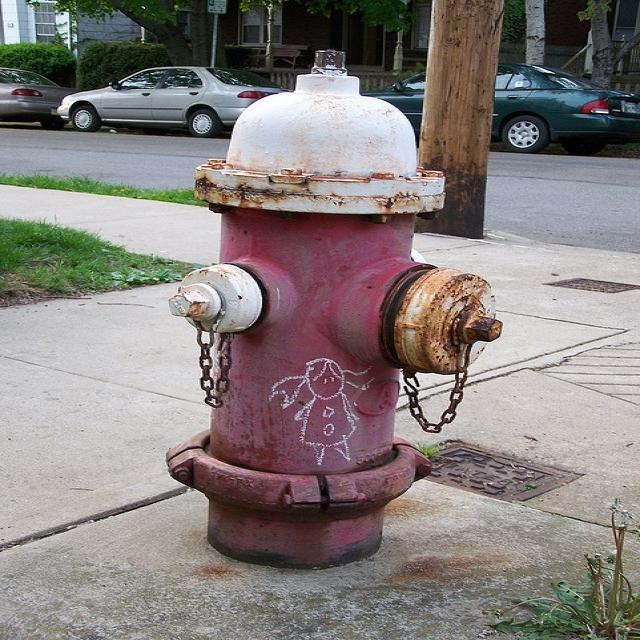fire_hydrant: (167, 53, 536, 583)
